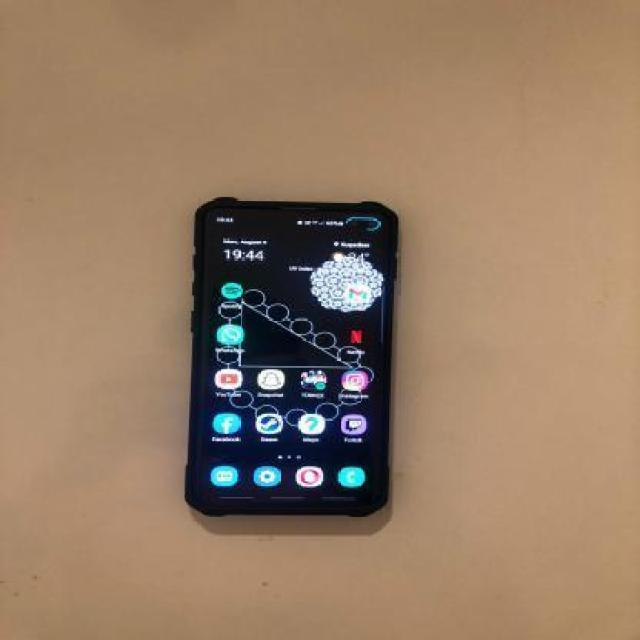cellphone: (188, 196, 400, 518)
